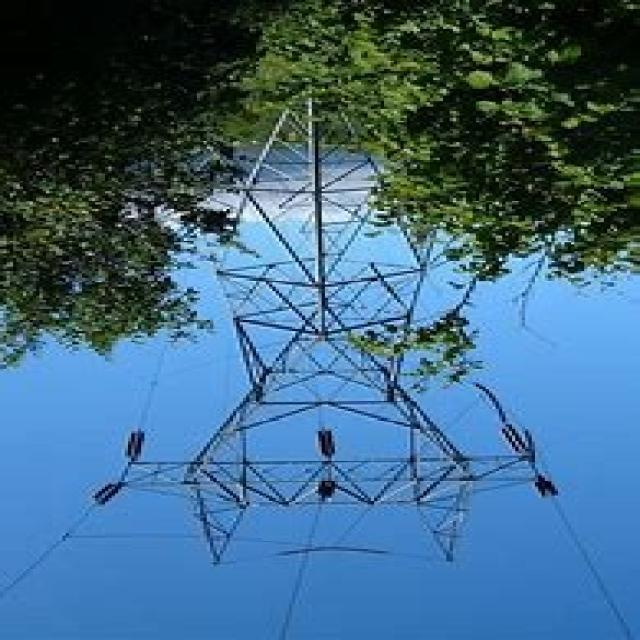utility poles: (318, 130, 570, 406), (54, 180, 286, 404)
